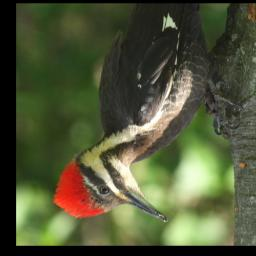Woodpecker: (54, 5, 239, 223)
